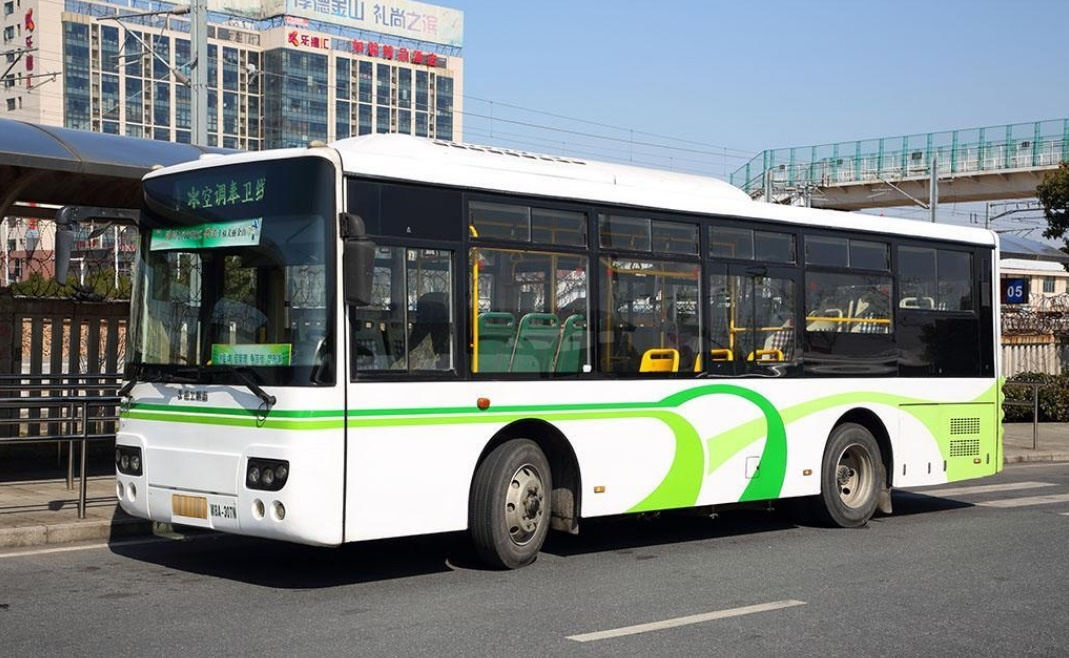bus: (108, 127, 1011, 574)
